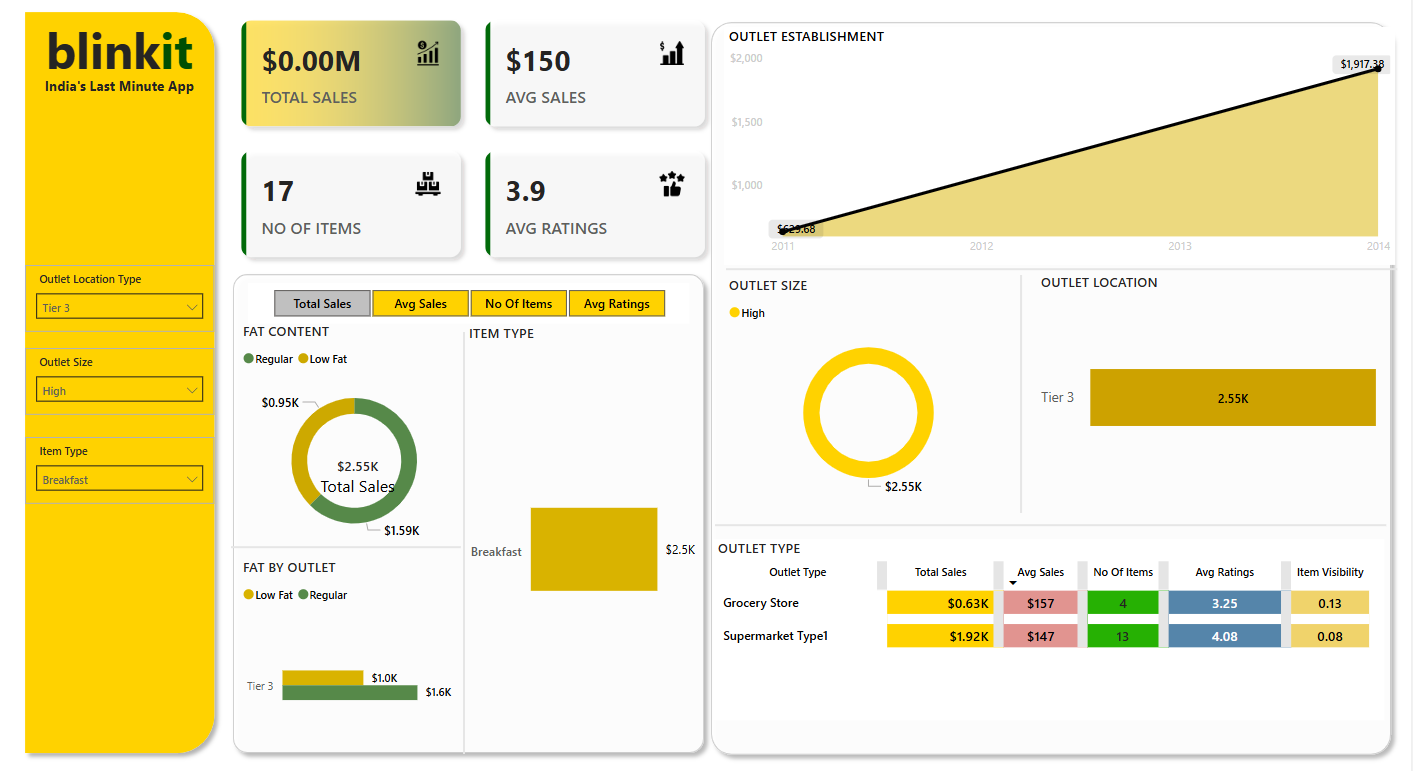

The dashboard page shown, as its layout file describes it:
{"tool":"powerbi","page":{"name":"Page 1","canvas":[1400,800],"ordinal":0},"visuals":[{"type":"shape","box":[22.3,24.5,205.3,750],"z":0},{"type":"textbox","box":[31.6,32.6,186.7,75.1],"z":1000},{"type":"textbox","box":[31.6,92.8,186.7,28.6],"z":2000},{"type":"cardVisual","fields":{"Data":["BlinkIT Grocery Data.Total Sales","BlinkIT Grocery Data.Average Sales","BlinkIT Grocery Data.Number Of Items","BlinkIT Grocery Data.Average Ratings"]},"box":[228.1,24.7,493.8,269.6],"z":3000},{"type":"shape","box":[228.1,283.5,483,490.9],"z":4000},{"type":"slicer","fields":{"Values":["Metrics.Metrics"]},"box":[251.9,301.2,435.6,40.5],"z":5000},{"type":"donutChart","title":"FAT CONTENT","fields":{"Y":["BlinkIT Grocery Data.Total Sales"],"Category":["BlinkIT Grocery Data.Item Fat Content"]},"box":[241.5,339.6,230.2,230.2],"z":6000},{"type":"cardVisual","fields":{"Data":["BlinkIT Grocery Data.Total Sales"]},"box":[305.2,454.3,110.6,75.1],"z":7000},{"type":"clusteredBarChart","title":"FAT BY OUTLET","fields":{"Y":["BlinkIT Grocery Data.Total Sales"],"Category":["BlinkIT Grocery Data.Outlet Location Type"],"Series":["BlinkIT Grocery Data.Item Fat Content"]},"box":[241.5,572.6,220.8,200.9],"z":8000},{"type":"shape","box":[234.9,549.1,227.4,26.4],"z":9000},{"type":"shape","box":[455.3,349.6,19.8,416.8],"z":10000},{"type":"barChart","title":"ITEM TYPE","fields":{"Y":["BlinkIT Grocery Data.Total Sales"],"Category":["BlinkIT Grocery Data.Item Type"]},"box":[465.2,341.7,235.1,424.7],"z":11000},{"type":"shape","box":[700,34.9,689.6,741.5],"z":12000},{"type":"lineChart","title":"OUTLET ESTABLISHMENT","fields":{"Category":["BlinkIT Grocery Data.Outlet Establishment Year"],"Y":["BlinkIT Grocery Data.Total Sales"]},"box":[721.7,48.1,663.2,234.9],"z":13000},{"type":"shape","box":[723.6,274.5,663.2,26.4],"z":14000},{"type":"donutChart","title":"OUTLET SIZE","fields":{"Y":["BlinkIT Grocery Data.Total Sales"],"Category":["BlinkIT Grocery Data.Outlet Size"]},"box":[722.1,294.3,285.9,226],"z":15000},{"type":"shape","box":[997.4,293.2,35.7,235.4],"z":16000},{"type":"funnel","title":"OUTLET LOCATION","fields":{"Category":["BlinkIT Grocery Data.Outlet Location Type"],"Y":["Sum(BlinkIT Grocery Data.Sales)"]},"box":[1030,291.1,345.8,228.1],"z":17000},{"type":"shape","box":[712.6,527.6,663.2,26.3],"z":18000},{"type":"pivotTable","title":"OUTLET TYPE","fields":{"Rows":["BlinkIT Grocery Data.Outlet Type"],"Values":["BlinkIT Grocery Data.Total Sales","BlinkIT Grocery Data.Avg Sales","BlinkIT Grocery Data.No Of Items","BlinkIT Grocery Data.Avg Ratings","Avg(BlinkIT Grocery Data.Item Visibility)"]},"box":[711.6,553.9,663.2,178.7],"z":19000},{"type":"slicer","fields":{"Values":["BlinkIT Grocery Data.Outlet Location Type"]},"box":[31.5,283.8,187.1,66.2],"z":19001},{"type":"slicer","fields":{"Values":["BlinkIT Grocery Data.Outlet Size"]},"box":[31.5,365.8,187.1,66.2],"z":19002},{"type":"slicer","fields":{"Values":["BlinkIT Grocery Data.Item Type"]},"box":[31.5,453,187.1,66.2],"z":19003}]}

Visuals, with their boxes on the page's 1400x800 design canvas (x1, y1, x2, y2). These are canvas units, not pixel positions in the 1413x771 screenshot, which may show the page scaled, cropped or inside an application window:
shape: locate(22, 24, 228, 774)
textbox: locate(32, 33, 218, 108)
textbox: locate(32, 93, 218, 121)
cardVisual - BlinkIT Grocery Data.Total Sales x BlinkIT Grocery Data.Average Sales: locate(228, 25, 722, 294)
shape: locate(228, 284, 711, 774)
slicer - Metrics.Metrics: locate(252, 301, 688, 342)
"FAT CONTENT" donutChart: locate(242, 340, 472, 570)
cardVisual - BlinkIT Grocery Data.Total Sales: locate(305, 454, 416, 529)
"FAT BY OUTLET" clusteredBarChart: locate(242, 573, 462, 774)
shape: locate(235, 549, 462, 576)
shape: locate(455, 350, 475, 766)
"ITEM TYPE" barChart: locate(465, 342, 700, 766)
shape: locate(700, 35, 1390, 776)
"OUTLET ESTABLISHMENT" lineChart: locate(722, 48, 1385, 283)
shape: locate(724, 274, 1387, 301)
"OUTLET SIZE" donutChart: locate(722, 294, 1008, 520)
shape: locate(997, 293, 1033, 529)
"OUTLET LOCATION" funnel: locate(1030, 291, 1376, 519)
shape: locate(713, 528, 1376, 554)
"OUTLET TYPE" pivotTable: locate(712, 554, 1375, 733)
slicer - BlinkIT Grocery Data.Outlet Location Type: locate(32, 284, 219, 350)
slicer - BlinkIT Grocery Data.Outlet Size: locate(32, 366, 219, 432)
slicer - BlinkIT Grocery Data.Item Type: locate(32, 453, 219, 519)
